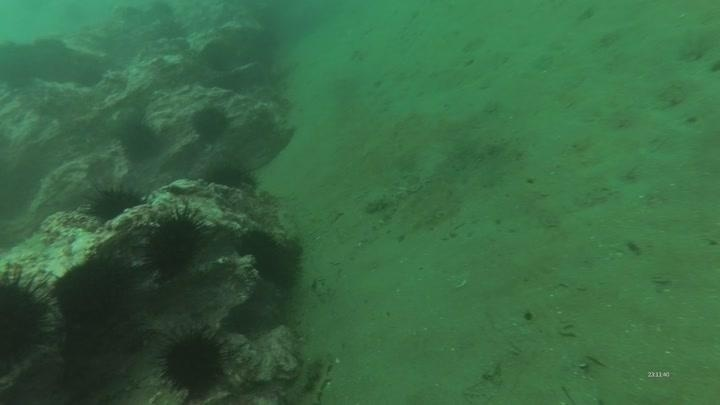echinus: (50, 253, 137, 328), (0, 267, 58, 372), (154, 324, 232, 400), (139, 206, 211, 281), (235, 226, 302, 288), (85, 183, 146, 225), (116, 117, 164, 165), (189, 103, 232, 144), (203, 160, 254, 192)
holothurian: (293, 350, 337, 405)
